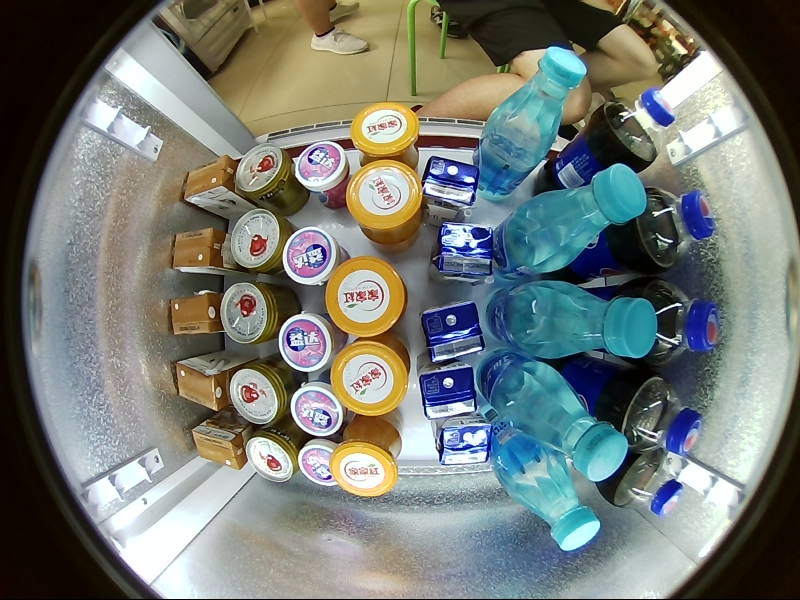ops-m102: (554, 364, 681, 464), (544, 225, 702, 282), (597, 313, 697, 381), (564, 463, 650, 522), (624, 131, 679, 195)
ops-m103: (480, 349, 631, 485), (496, 165, 651, 281), (479, 44, 588, 202), (484, 411, 602, 551), (484, 281, 661, 365), (580, 375, 703, 477), (572, 104, 686, 206), (581, 184, 718, 261), (580, 324, 729, 393), (581, 259, 728, 325)
ops-m104: (230, 140, 309, 217), (335, 121, 405, 202), (317, 270, 388, 346), (220, 281, 301, 346), (314, 346, 388, 417), (330, 182, 397, 260), (228, 352, 293, 424), (305, 412, 374, 472), (225, 206, 285, 269), (241, 424, 296, 483)
ops-m129: (254, 326, 329, 393), (268, 180, 339, 248), (264, 244, 343, 305), (274, 119, 344, 187), (257, 383, 325, 447)
ops-m141: (421, 297, 485, 365), (431, 221, 495, 286), (414, 362, 480, 420), (542, 229, 593, 291), (528, 391, 582, 448), (430, 418, 490, 464), (532, 343, 580, 395), (536, 287, 581, 340)
ops-m147: (346, 161, 424, 254), (322, 254, 409, 337), (329, 339, 414, 417), (465, 233, 547, 312), (327, 416, 405, 497), (456, 313, 535, 390), (471, 160, 546, 233), (450, 393, 536, 456), (347, 98, 422, 161), (472, 102, 547, 160)
ops-m148: (131, 93, 264, 217), (531, 87, 677, 194), (560, 355, 704, 460), (547, 191, 716, 280), (124, 389, 254, 493), (100, 166, 239, 261), (88, 247, 241, 331), (94, 326, 232, 417), (599, 277, 722, 370), (610, 447, 688, 520)
ops-m149: (210, 138, 278, 206), (194, 336, 265, 396), (200, 259, 279, 309), (201, 207, 270, 259), (198, 391, 261, 436)
ops-m150: (242, 148, 340, 221), (175, 344, 272, 410), (227, 224, 329, 279), (226, 379, 321, 431), (227, 286, 319, 337), (178, 152, 251, 215), (235, 333, 318, 384), (166, 290, 227, 336), (194, 419, 252, 467), (169, 226, 228, 272)
ops-m152: (478, 147, 645, 277), (475, 64, 619, 209), (453, 410, 580, 574), (472, 357, 625, 484), (480, 274, 661, 357)
ops-m154: (138, 119, 217, 196), (114, 256, 200, 325), (113, 333, 193, 405), (117, 192, 199, 261), (135, 396, 197, 468)
ops-m155: (321, 300, 476, 490), (329, 115, 477, 301)
ops-m156: (402, 194, 470, 258), (401, 268, 467, 332), (294, 138, 347, 215), (384, 331, 447, 394), (274, 311, 333, 374), (283, 226, 336, 290), (415, 135, 472, 194), (288, 380, 345, 436), (391, 394, 445, 441), (296, 438, 339, 487)
